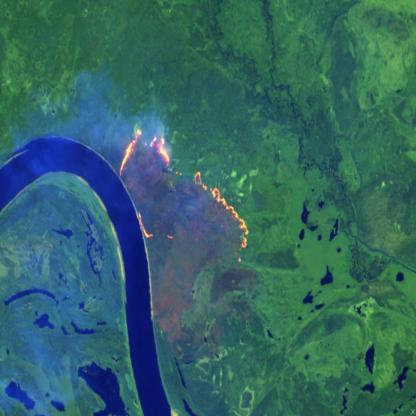fire: (114, 123, 254, 370)
